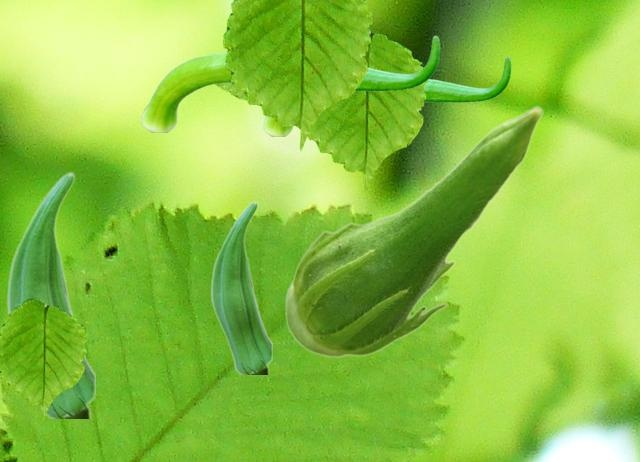okra: (284, 105, 543, 357), (141, 35, 439, 131), (6, 170, 94, 417), (263, 56, 510, 135), (210, 200, 271, 373)
